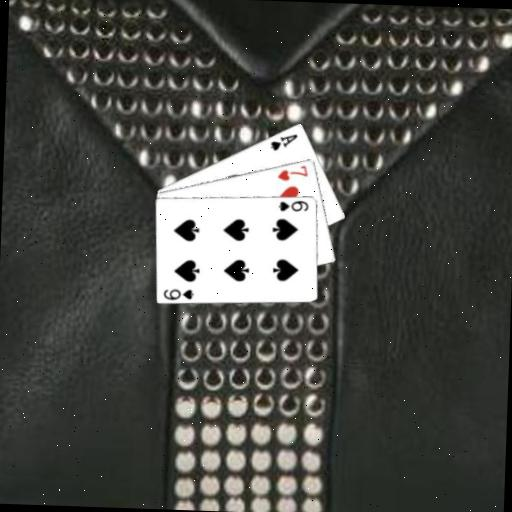6S: (275, 196, 311, 212), (160, 285, 196, 301)
7H: (274, 161, 310, 183)
AS: (267, 129, 299, 152)
